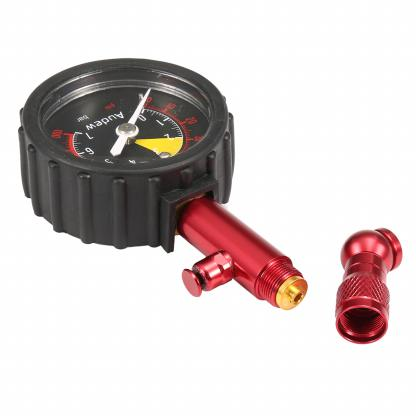needle: (127, 84, 154, 126)
